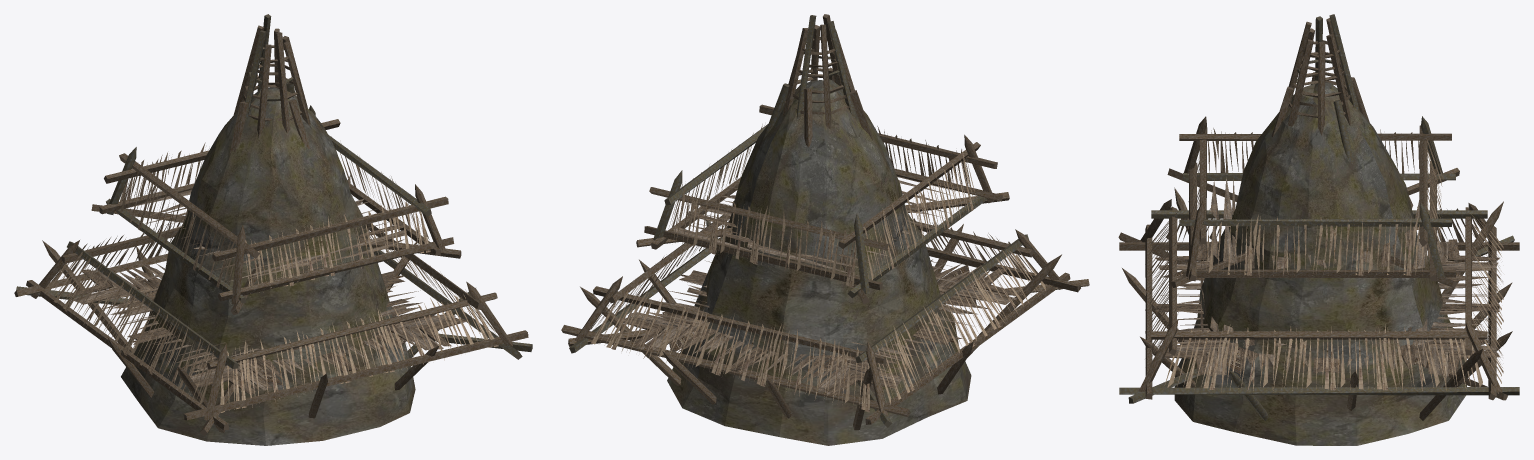
The model's file is mirador_escalonado.glb.
3 views of the same model, side by side, from view 1: azimuth 30°, elevation 25°; view 2: azimuth 150°, elevation 25°; view 3: azimuth 270°, elevation 25° (orthographic).
Parts seen in each view (by area): view 1: mirador_escalonado; view 2: mirador_escalonado; view 3: mirador_escalonado.
Part boxes in pixels (x1,y1,x2,y2): mirador_escalonado: (14, 14, 532, 445); mirador_escalonado: (561, 14, 1089, 445); mirador_escalonado: (1118, 14, 1519, 445).
Size of the model in its own units: 10.76 by 11.07 by 10.78.
4 materials, 4 textured.
